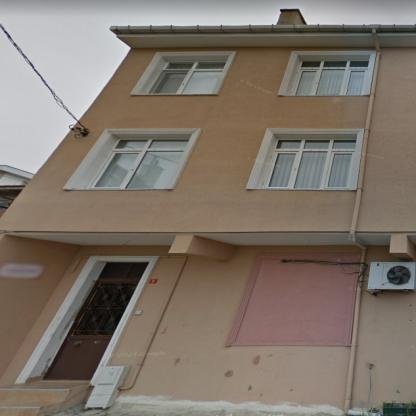door: (45, 282, 138, 379)
window: (84, 138, 190, 188), (262, 138, 357, 187), (291, 61, 369, 94), (148, 62, 226, 94), (101, 264, 147, 277)
